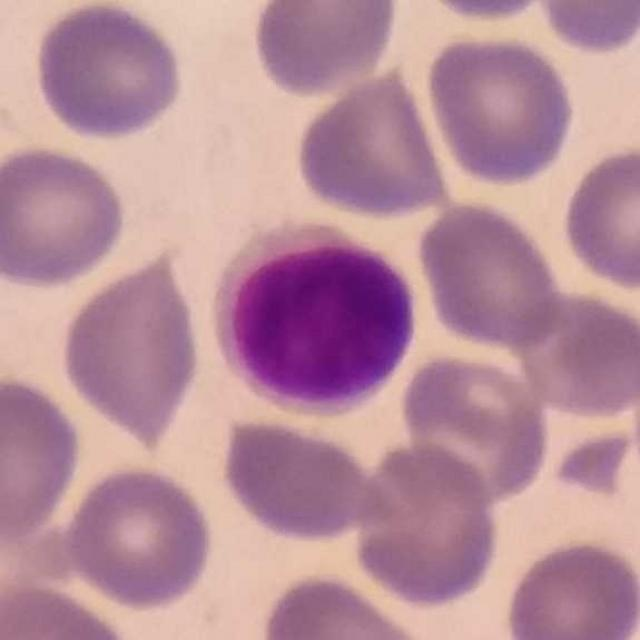Lymphocyte: (205, 218, 423, 422)
Platelets: (548, 428, 630, 499)
RBC: (57, 244, 207, 448), (291, 61, 455, 223), (350, 439, 504, 611), (394, 347, 553, 508), (422, 29, 579, 188), (414, 197, 567, 354), (59, 461, 218, 612), (31, 0, 188, 144), (216, 414, 383, 545), (0, 141, 131, 290), (511, 286, 639, 423), (248, 0, 404, 100), (0, 370, 86, 546), (500, 535, 640, 640), (253, 569, 440, 640), (557, 141, 640, 293), (0, 579, 138, 640), (544, 426, 637, 496), (532, 0, 640, 57), (406, 0, 568, 24), (626, 348, 640, 502)
